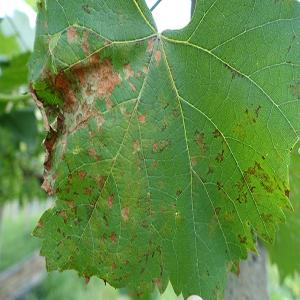Folha: (24, 0, 299, 298)
Fungo: (55, 45, 119, 139), (44, 112, 68, 193), (235, 170, 253, 205), (39, 61, 59, 92), (256, 169, 278, 191), (259, 210, 277, 228), (193, 129, 207, 152), (248, 153, 260, 178), (235, 230, 251, 248), (66, 26, 78, 44), (87, 147, 100, 161), (124, 61, 134, 79), (152, 272, 163, 288), (155, 240, 164, 258), (135, 154, 143, 174), (94, 174, 104, 190), (141, 215, 149, 234), (282, 185, 292, 200), (154, 48, 162, 66), (215, 148, 225, 162), (138, 111, 148, 125), (106, 193, 114, 209), (132, 138, 140, 154), (121, 205, 129, 220), (77, 169, 87, 180), (254, 104, 262, 117), (123, 255, 131, 268), (235, 261, 241, 278), (190, 153, 196, 170), (83, 186, 93, 196), (64, 198, 74, 208), (109, 231, 117, 243), (212, 128, 220, 139), (206, 164, 214, 175), (110, 259, 116, 273), (128, 81, 136, 91), (82, 3, 90, 13), (151, 159, 159, 168), (152, 140, 158, 152), (216, 180, 223, 190), (245, 218, 252, 228), (160, 203, 165, 215), (160, 122, 166, 132), (84, 275, 90, 285), (230, 70, 235, 82), (56, 250, 62, 260), (43, 18, 48, 29), (215, 205, 221, 214), (163, 102, 169, 110), (176, 189, 182, 196), (142, 66, 146, 74), (174, 210, 179, 216), (172, 203, 176, 209), (75, 247, 79, 253), (69, 255, 73, 259)
